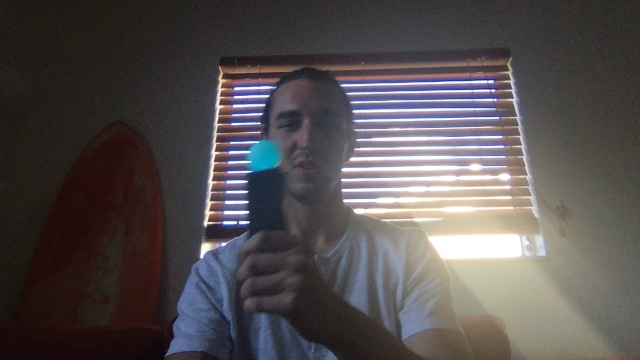wand: (248, 142, 280, 170)
